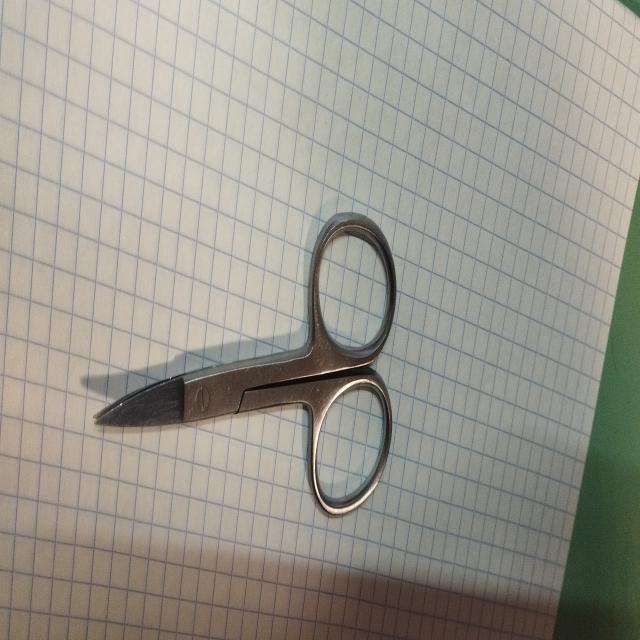tesoura: (89, 203, 399, 526)
